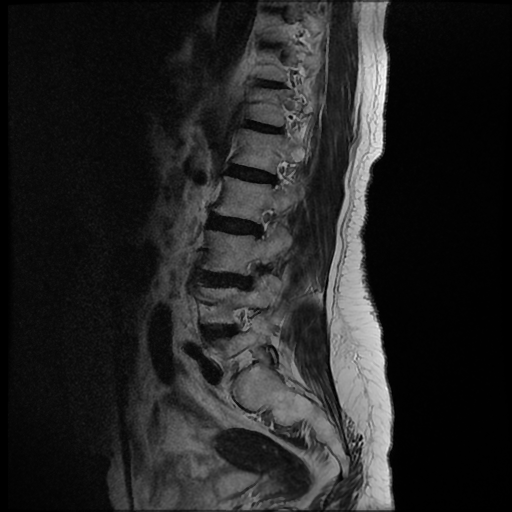LFS1: (248, 198, 282, 247)
